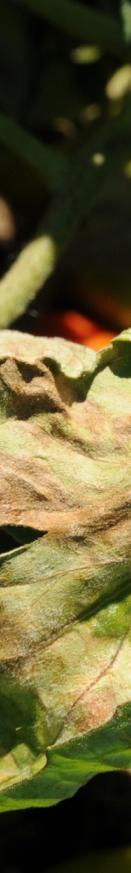Tomato leaf late blight: (0, 279, 131, 866)
